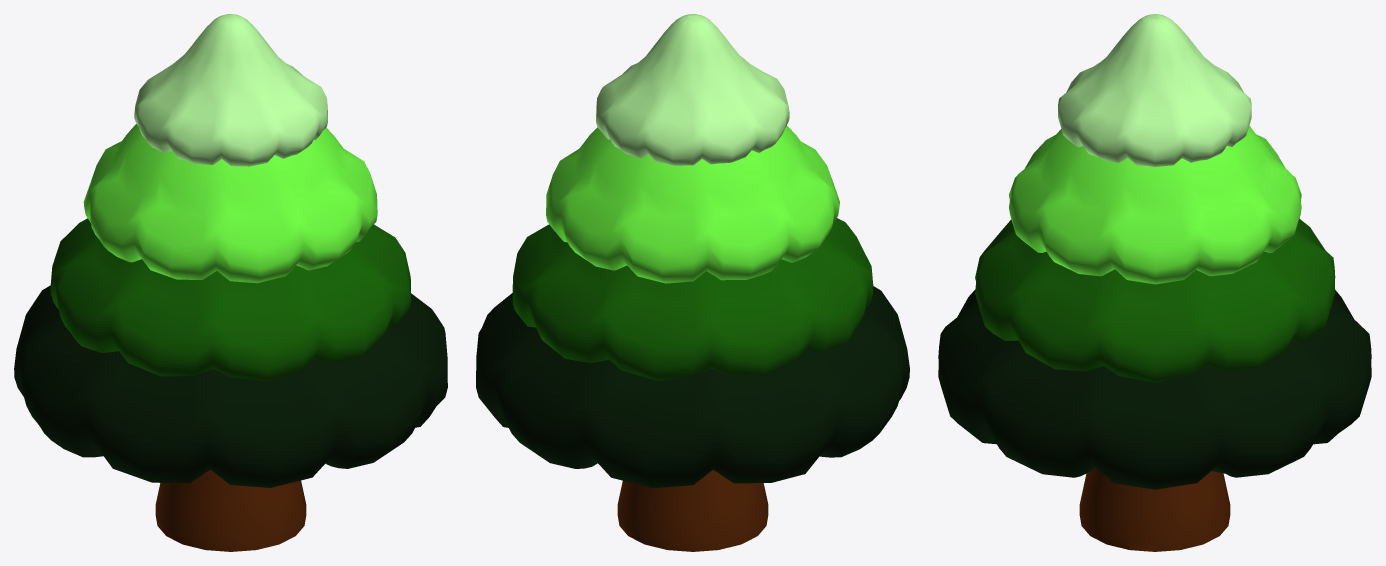
The model's file is Sapin_triangle.fbx.
3 renders of one model, left to right at view 1: azimuth 30°, elevation 25°; view 2: azimuth 150°, elevation 25°; view 3: azimuth 270°, elevation 25°, orthographic.
Parts seen in each view (by area): view 1: Tronc_low007, Object008; view 2: Tronc_low007, Object008; view 3: Tronc_low007, Object008.
Part boxes in pixels (x1,y1,x2,y2): Tronc_low007: [14, 124, 447, 551]; Object008: [134, 14, 327, 166]; Tronc_low007: [476, 125, 909, 551]; Object008: [596, 14, 789, 165]; Tronc_low007: [938, 125, 1371, 551]; Object008: [1058, 14, 1251, 166].
Size of the model in its own units: 99.15 by 126 by 98.56.
